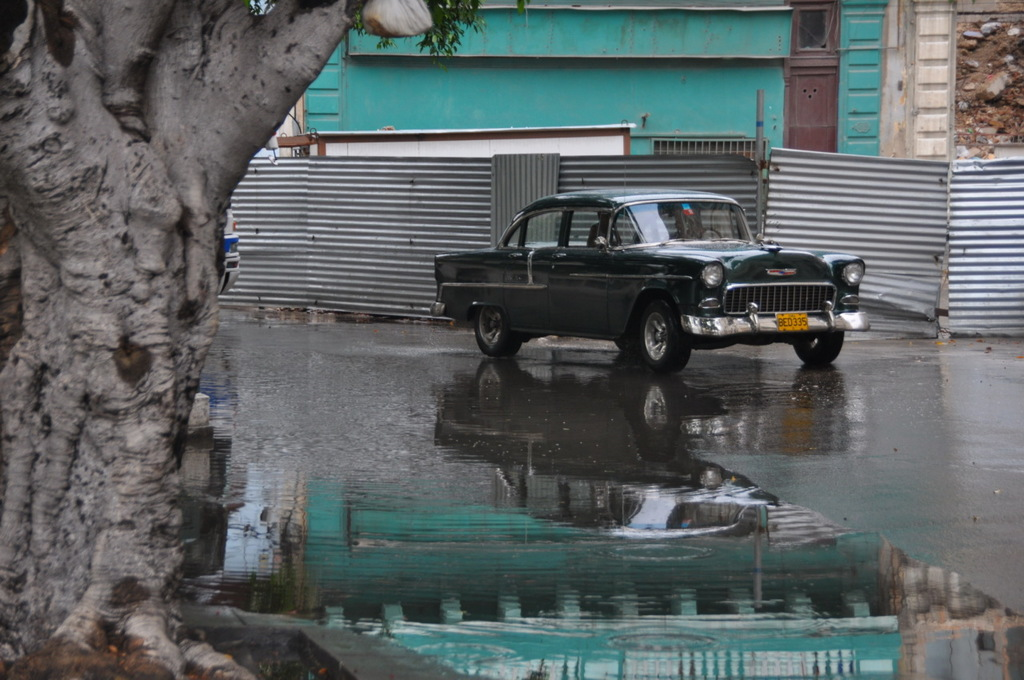Car: (431, 180, 870, 371)
